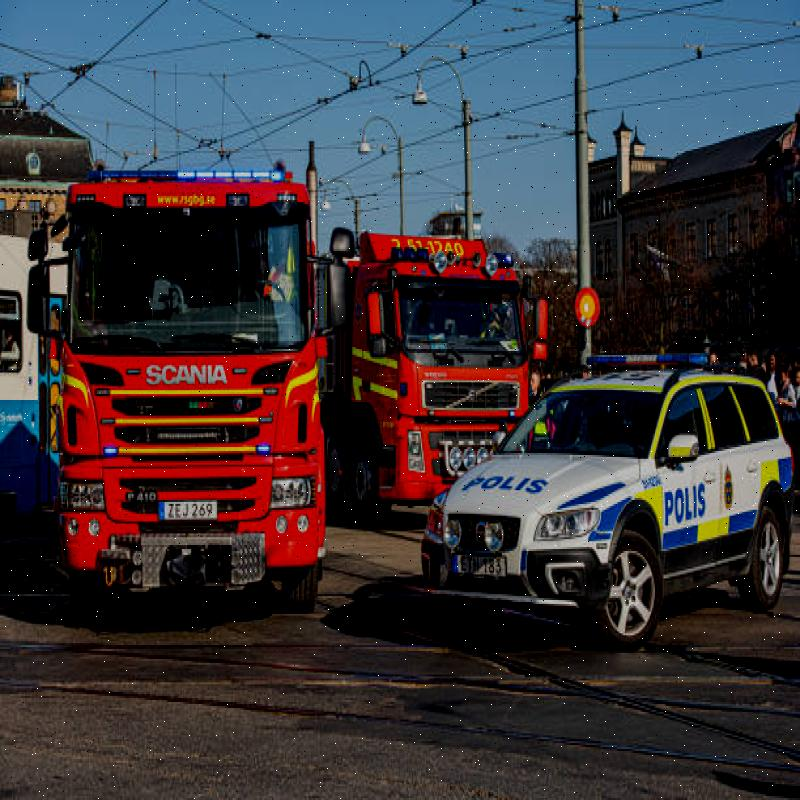AmbulanceSiren: (581, 328, 728, 392), (85, 150, 290, 188), (382, 236, 524, 281)
